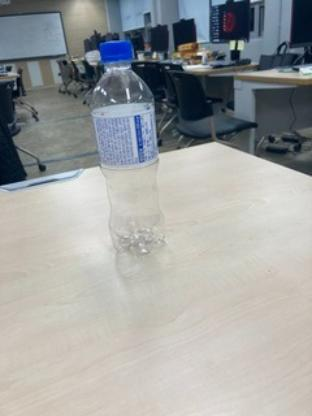Plastic Bottle: (89, 37, 167, 259)
